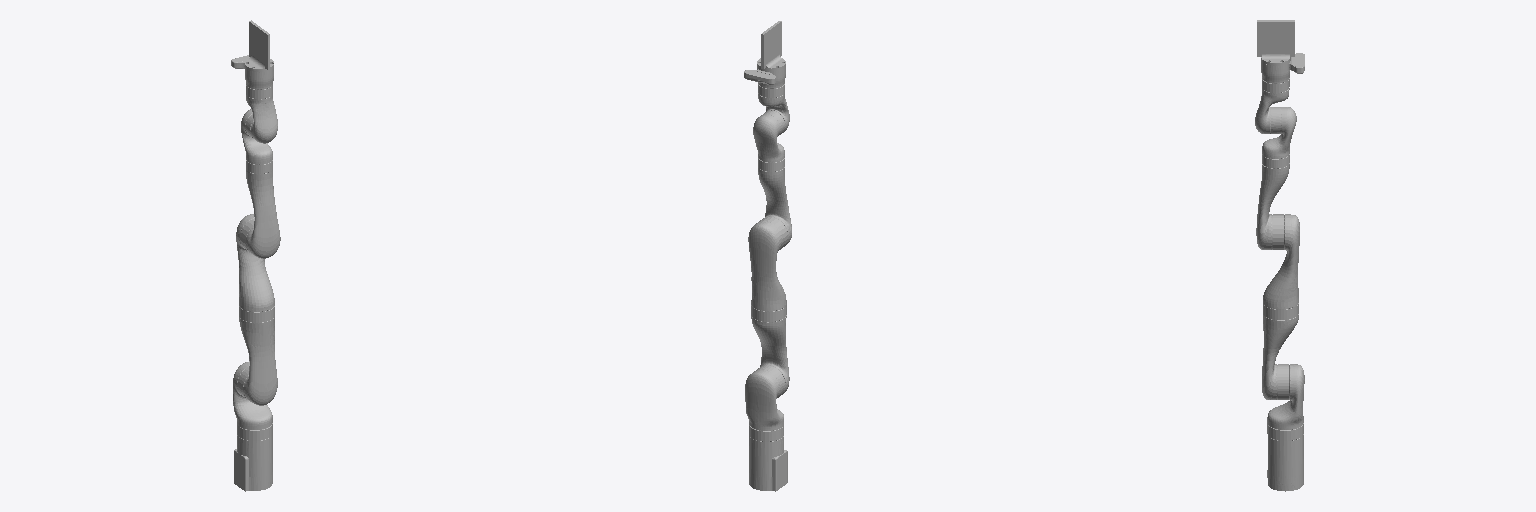
robot.urdf — GEN3_URDF_V12:
<robot name="GEN3_URDF_V12" version="1.0">
  <link name="base_link">
    <inertial>
      <origin xyz="-0.000648 -0.000166 0.084487" rpy="0 0 0" />
      <mass value="1.697" />
      <inertia ixx="0.004622" ixy="9E-06" ixz="6E-05" iyy="0.004495" iyz="9E-06" izz="0.002079" />
    </inertial>
    <visual>
      <origin xyz="0 0 0" rpy="0 0 0" />
      <geometry>
        <mesh filename="../meshes/base_link.obj" />
      </geometry>
      <material name="">
        <color rgba="0.75294 0.75294 0.75294 1" />
      </material>
    </visual>
    <collision>
      <origin xyz="0 0 0" rpy="0 0 0" />
      <geometry>
        <mesh filename="../meshes/base_link.obj" />
      </geometry>
    </collision>
  </link>
  <link name="shoulder_link">
    <inertial>
      <origin xyz="-2.3E-05 -0.010364 -0.07336" rpy="0 0 0" />
      <mass value="1.3773" />
      <inertia ixx="0.00457" ixy="1E-06" ixz="2E-06" iyy="0.004831" iyz="0.000448" izz="0.001409" />
    </inertial>
    <visual>
      <origin xyz="0 0 0" rpy="0 0 0" />
      <geometry>
        <mesh filename="../meshes/shoulder_link.obj" />
      </geometry>
      <material name="">
        <color rgba="0.75294 0.75294 0.75294 1" />
      </material>
    </visual>
    <collision>
      <origin xyz="0 0 0" rpy="0 0 0" />
      <geometry>
        <mesh filename="../meshes/shoulder_link.obj" />
      </geometry>
    </collision>
  </link>
  <joint name="Actuator1" type="revolute">
    <origin xyz="0 0 0.15643" rpy="3.1416 2.7629E-18 -4.9305E-36" />
    <parent link="base_link" />
    <child link="shoulder_link" />
    <axis xyz="0 0 1" />
    <limit lower="-3.14" upper="3.14" effort="39" velocity="0.8727" />
  </joint>
  <link name="half_arm_1_link">
    <inertial>
      <origin xyz="-4.4E-05 -0.09958 -0.013278" rpy="0 0 0" />
      <mass value="1.1636" />
      <inertia ixx="0.011088" ixy="5E-06" ixz="0" iyy="0.001072" iyz="-0.000691" izz="0.011255" />
    </inertial>
    <visual>
      <origin xyz="0 0 0" rpy="0 0 0" />
      <geometry>
        <mesh filename="../meshes/half_arm_1_link.obj" />
      </geometry>
      <material name="">
        <color rgba="0.75294 0.75294 0.75294 1" />
      </material>
    </visual>
    <collision>
      <origin xyz="0 0 0" rpy="0 0 0" />
      <geometry>
        <mesh filename="../meshes/half_arm_1_link.obj" />
      </geometry>
    </collision>
  </link>
  <joint name="Actuator2" type="revolute">
    <origin xyz="0 0.005375 -0.12838" rpy="1.5708 2.1343E-17 -1.1102E-16" />
    <parent link="shoulder_link" />
    <child link="half_arm_1_link" />
    <axis xyz="0 0 1" />
    <limit lower="-2.41" upper="2.41" effort="39" velocity="0.8727" />
  </joint>
  <link name="half_arm_2_link">
    <inertial>
      <origin xyz="-4.4E-05 -0.006641 -0.117892" rpy="0 0 0" />
      <mass value="1.1636" />
      <inertia ixx="0.010932" ixy="0" ixz="-7E-06" iyy="0.011127" iyz="0.000606" izz="0.001043" />
    </inertial>
    <visual>
      <origin xyz="0 0 0" rpy="0 0 0" />
      <geometry>
        <mesh filename="../meshes/half_arm_2_link.obj" />
      </geometry>
      <material name="">
        <color rgba="0.75294 0.75294 0.75294 1" />
      </material>
    </visual>
    <collision>
      <origin xyz="0 0 0" rpy="0 0 0" />
      <geometry>
        <mesh filename="../meshes/half_arm_2_link.obj" />
      </geometry>
    </collision>
  </link>
  <joint name="Actuator3" type="revolute">
    <origin xyz="0 -0.21038 -0.006375" rpy="-1.5708 1.2326E-32 -2.9122E-16" />
    <parent link="half_arm_1_link" />
    <child link="half_arm_2_link" />
    <axis xyz="0 0 1" />
    <limit lower="-3.14" upper="3.14" effort="39" velocity="0.8727" />
  </joint>
  <link name="forearm_link">
    <inertial>
      <origin xyz="-1.8E-05 -0.075478 -0.015006" rpy="0 0 0" />
      <mass value="0.9302" />
      <inertia ixx="0.008147" ixy="-1E-06" ixz="0" iyy="0.000631" iyz="-0.0005" izz="0.008316" />
    </inertial>
    <visual>
      <origin xyz="0 0 0" rpy="0 0 0" />
      <geometry>
        <mesh filename="../meshes/forearm_link.obj" />
      </geometry>
      <material name="">
        <color rgba="0.75294 0.75294 0.75294 1" />
      </material>
    </visual>
    <collision>
      <origin xyz="0 0 0" rpy="0 0 0" />
      <geometry>
        <mesh filename="../meshes/forearm_link.obj" />
      </geometry>
    </collision>
  </link>
  <joint name="Actuator4" type="revolute">
    <origin xyz="0 0.006375 -0.21038" rpy="1.5708 -6.6954E-17 -1.6653E-16" />
    <parent link="half_arm_2_link" />
    <child link="forearm_link" />
    <axis xyz="0 0 1" />
    <limit lower="-2.66" upper="2.66" effort="39" velocity="0.8727" />
  </joint>
  <link name="spherical_wrist_1_link">
    <inertial>
      <origin xyz="1E-06 -0.009432 -0.063883" rpy="0 0 0" />
      <mass value="0.6781" />
      <inertia ixx="0.001596" ixy="0" ixz="0" iyy="0.001607" iyz="0.000256" izz="0.000399" />
    </inertial>
    <visual>
      <origin xyz="0 0 0" rpy="0 0 0" />
      <geometry>
        <mesh filename="../meshes/spherical_wrist_1_link.obj" />
      </geometry>
      <material name="">
        <color rgba="0.75294 0.75294 0.75294 1" />
      </material>
    </visual>
    <collision>
      <origin xyz="0 0 0" rpy="0 0 0" />
      <geometry>
        <mesh filename="../meshes/spherical_wrist_1_link.obj" />
      </geometry>
    </collision>
  </link>
  <joint name="Actuator5" type="revolute">
    <origin xyz="0 -0.20843 -0.006375" rpy="-1.5708 2.2204E-16 -6.373E-17" />
    <parent link="forearm_link" />
    <child link="spherical_wrist_1_link" />
    <axis xyz="0 0 1" />
    <limit lower="-3.14" upper="3.14" effort="9" velocity="0.8727" />
  </joint>
  <link name="spherical_wrist_2_link">
    <inertial>
      <origin xyz="1E-06 -0.045483 -0.00965" rpy="0 0 0" />
      <mass value="0.6781" />
      <inertia ixx="0.001641" ixy="0" ixz="0" iyy="0.00041" iyz="-0.000278" izz="0.001641" />
    </inertial>
    <visual>
      <origin xyz="0 0 0" rpy="0 0 0" />
      <geometry>
        <mesh filename="../meshes/spherical_wrist_2_link.obj" />
      </geometry>
      <material name="">
        <color rgba="0.75294 0.75294 0.75294 1" />
      </material>
    </visual>
    <collision>
      <origin xyz="0 0 0" rpy="0 0 0" />
      <geometry>
        <mesh filename="../meshes/spherical_wrist_2_link.obj" />
      </geometry>
    </collision>
  </link>
  <joint name="Actuator6" type="revolute">
    <origin xyz="0 0.00017505 -0.10593" rpy="1.5708 9.2076E-28 -8.2157E-15" />
    <parent link="spherical_wrist_1_link" />
    <child link="spherical_wrist_2_link" />
    <axis xyz="0 0 1" />
    <limit lower="-2.23" upper="2.23" effort="9" velocity="0.8727" />
  </joint>
  <link name="bracelet_with_vision_link">
    <inertial>
      <origin xyz="-0.000281 -0.011402 -0.029798" rpy="0 0 0" />
      <mass value="0.5006" />
      <inertia ixx="0.000587" ixy="3E-06" ixz="3E-06" iyy="0.000369" iyz="0.000118" izz="0.000609" />
    </inertial>
    <visual>
      <origin xyz="0 0 0" rpy="0 0 0" />
      <geometry>
        <mesh filename="../meshes/bracelet_with_vision_link.obj" />
      </geometry>
      <material name="">
        <color rgba="0.75294 0.75294 0.75294 1" />
      </material>
    </visual>
    <collision>
      <origin xyz="0 0 0" rpy="0 0 0" />
      <geometry>
        <mesh filename="../meshes/bracelet_with_vision_link.obj" />
      </geometry>
    </collision>
  </link>
  <joint name="Actuator7" type="revolute">
    <origin xyz="0 -0.10593 -0.00017505" rpy="-1.5708 -5.5511E-17 9.6396E-17" />
    <parent link="spherical_wrist_2_link" />
    <child link="bracelet_with_vision_link" />
    <axis xyz="0 0 1" />
    <limit lower="-3.14" upper="3.14" effort="9" velocity="0.8727" />
  </joint>
  <link name="EndEffector_Link" />
  <joint name="EndEffector" type="fixed">
    <origin xyz="0 0 -0.0615250000000001" rpy="3.14159265358979 1.09937075168372E-32 0" />
    <parent link="bracelet_with_vision_link" />
    <child link="EndEffector_Link" />
    <axis xyz="0 0 0" />
  </joint>
</robot>

--- What the picture shows (computed from the rendered views, not written in the file) ---
3 views of the same robot in one strip: view 1: azimuth 30°, elevation 25°; view 2: azimuth 150°, elevation 25°; view 3: azimuth 270°, elevation 25° (orthographic).
Model GEN3_URDF_V12 with 9 links and 8 joints (7 revolute, 1 fixed), rooted at base_link, posed all joints at 0.
Visible links, largest first — view 1: half_arm_1_link, forearm_link, base_link, half_arm_2_link, bracelet_with_vision_link, shoulder_link, spherical_wrist_2_link, spherical_wrist_1_link; view 2: half_arm_2_link, base_link, shoulder_link, half_arm_1_link, bracelet_with_vision_link, forearm_link, spherical_wrist_1_link, spherical_wrist_2_link; view 3: bracelet_with_vision_link, half_arm_2_link, base_link, half_arm_1_link, shoulder_link, forearm_link, spherical_wrist_1_link, spherical_wrist_2_link.
Link boxes in pixels (x1,y1,x2,y2): half_arm_1_link: [239, 306, 277, 405]; forearm_link: [246, 160, 280, 258]; base_link: [234, 423, 272, 491]; half_arm_2_link: [236, 214, 274, 311]; bracelet_with_vision_link: [231, 20, 273, 89]; shoulder_link: [233, 361, 272, 429]; spherical_wrist_2_link: [246, 85, 277, 143]; spherical_wrist_1_link: [241, 109, 272, 164]; half_arm_2_link: [748, 217, 787, 311]; base_link: [749, 425, 787, 491]; shoulder_link: [745, 365, 785, 430]; half_arm_1_link: [751, 305, 789, 394]; bracelet_with_vision_link: [744, 21, 785, 88]; forearm_link: [758, 158, 791, 246]; spherical_wrist_1_link: [753, 110, 784, 162]; spherical_wrist_2_link: [758, 84, 789, 132]; bracelet_with_vision_link: [1257, 20, 1304, 83]; half_arm_2_link: [1263, 214, 1299, 309]; base_link: [1267, 423, 1303, 491]; half_arm_1_link: [1262, 303, 1298, 399]; shoulder_link: [1267, 364, 1304, 429]; forearm_link: [1256, 154, 1289, 249]; spherical_wrist_1_link: [1262, 107, 1296, 158]; spherical_wrist_2_link: [1255, 78, 1289, 133].
Bounding box of the posed robot: 0.0928 × 0.1278 × 1.3 m (x, y, z).
8 mesh visuals loaded from 8 distinct referenced files (8 OBJ).